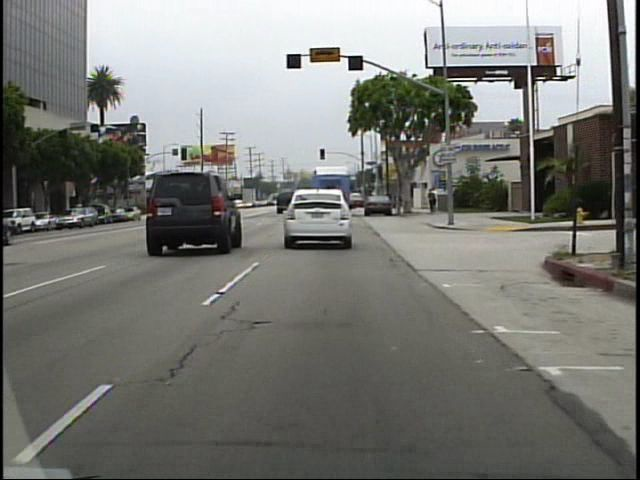person: (426, 187, 437, 216), (433, 187, 442, 213)
